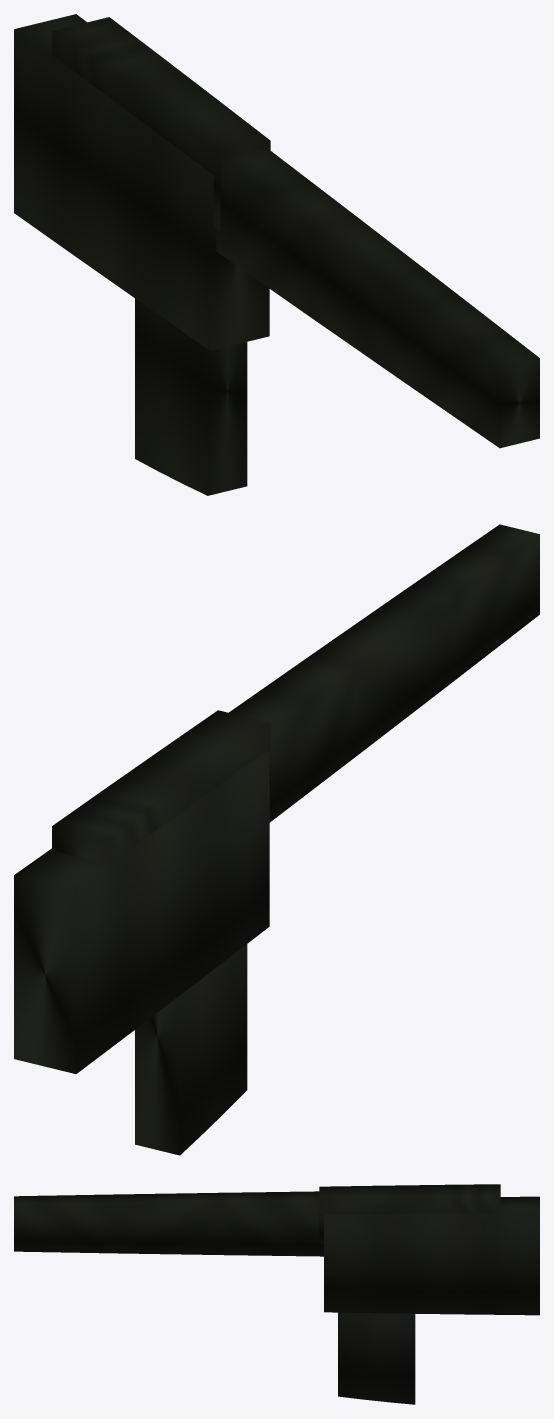
File: wpn_usp45_suppressed.glb
The picture shows the model from 3 angles, top to bottom: view 1: azimuth 30°, elevation 25°; view 2: azimuth 150°, elevation 25°; view 3: azimuth 270°, elevation 25°; orthographic projection. The views are drawn at different scales.
Visible parts, largest first — view 1: SubMesh_0_Receiver, SubMesh_3_BarrelSight, SubMesh_2_Magazine, SubMesh_1_Action; view 2: SubMesh_0_Receiver, SubMesh_3_BarrelSight, SubMesh_2_Magazine, SubMesh_1_Action; view 3: SubMesh_0_Receiver, SubMesh_3_BarrelSight, SubMesh_2_Magazine, SubMesh_1_Action.
Boxes of the visible parts, box(x1,y1,x2,y2) form: SubMesh_0_Receiver: box(14, 14, 269, 350); SubMesh_3_BarrelSight: box(216, 148, 539, 448); SubMesh_2_Magazine: box(135, 298, 247, 495); SubMesh_1_Action: box(52, 17, 270, 230); SubMesh_0_Receiver: box(14, 751, 269, 1073); SubMesh_3_BarrelSight: box(229, 524, 539, 822); SubMesh_2_Magazine: box(135, 944, 247, 1155); SubMesh_1_Action: box(52, 710, 270, 864); SubMesh_0_Receiver: box(324, 1196, 539, 1315); SubMesh_3_BarrelSight: box(14, 1191, 323, 1256); SubMesh_2_Magazine: box(338, 1312, 415, 1404); SubMesh_1_Action: box(319, 1184, 500, 1243).
Bounding box in the file's own units: 0.036 × 0.2061 × 0.475.
Materials: 1 (1 with a texture image).
